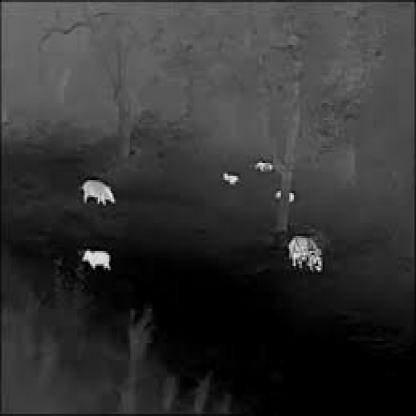rehkitze: (287, 235, 325, 274), (77, 177, 117, 206), (79, 246, 114, 271), (250, 154, 275, 174), (273, 188, 297, 206), (221, 168, 240, 185)
